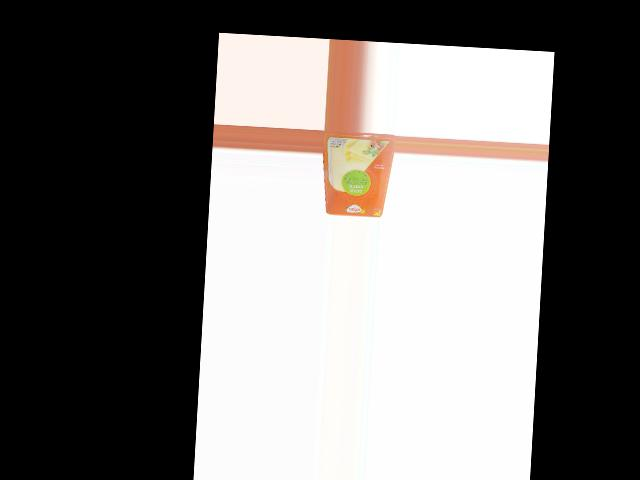cheese: (321, 130, 395, 217)
